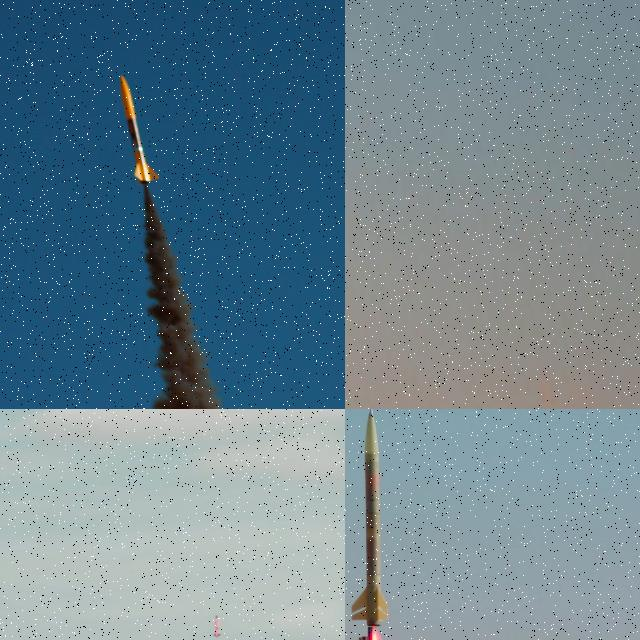Rocket: (352, 409, 390, 627), (120, 75, 161, 185), (212, 614, 220, 638)
